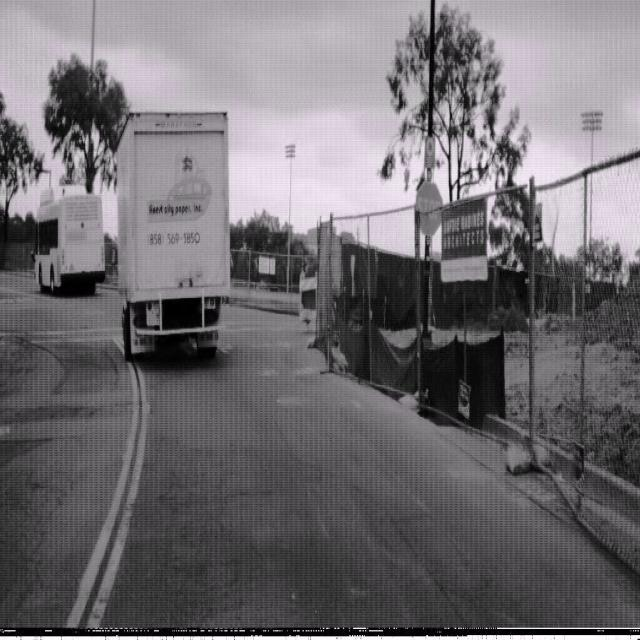stop: (415, 179, 444, 238)
